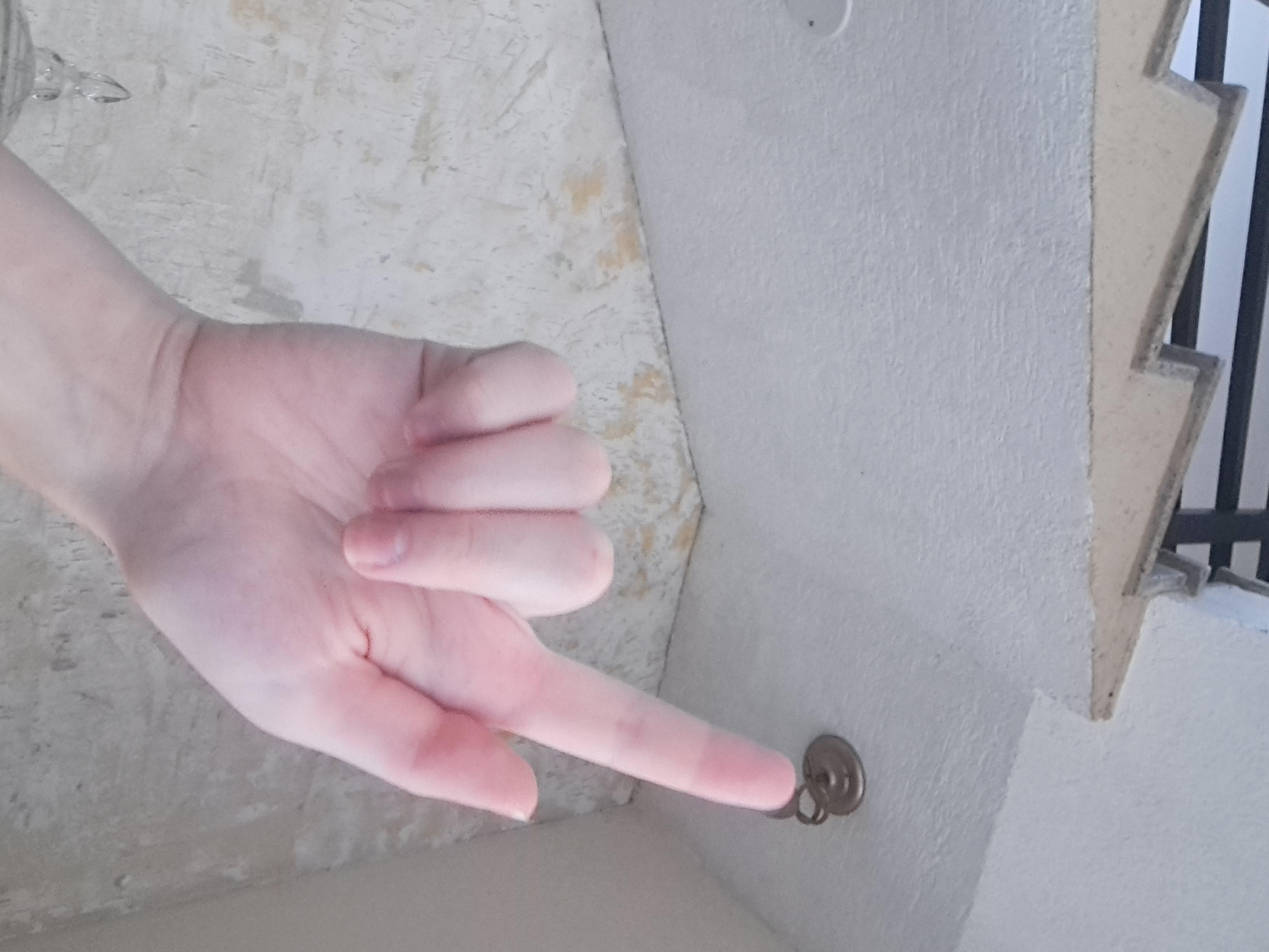G: (415, 318, 1125, 855)
